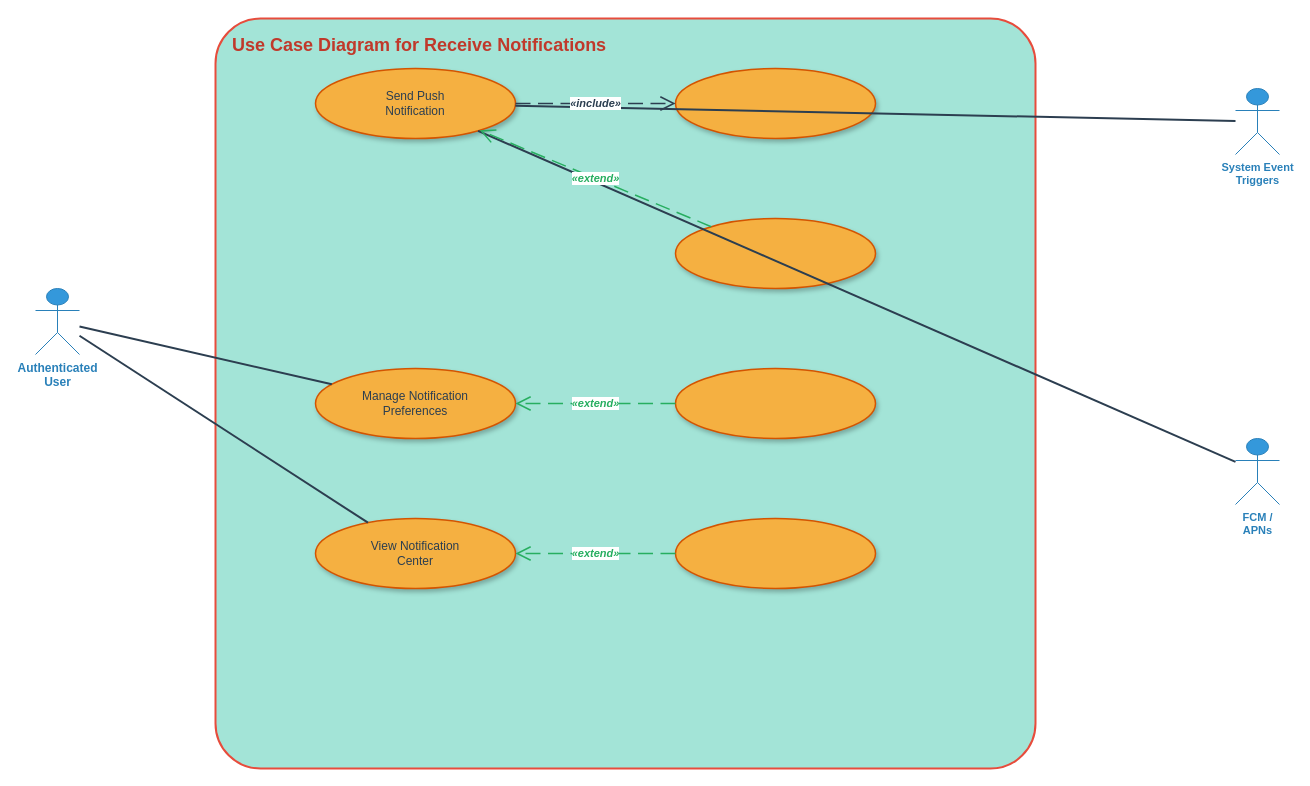
Some shapes in this 1310 by 786 pixel diagram are drawn without their labels. The centre of each missing label's shape, as x and y in pixels:
Clear Notifications: point 776,554
Configure Quiet Hours: point 776,404
Send Email Notification: point 776,254
Send In-App Notification: point 776,104
